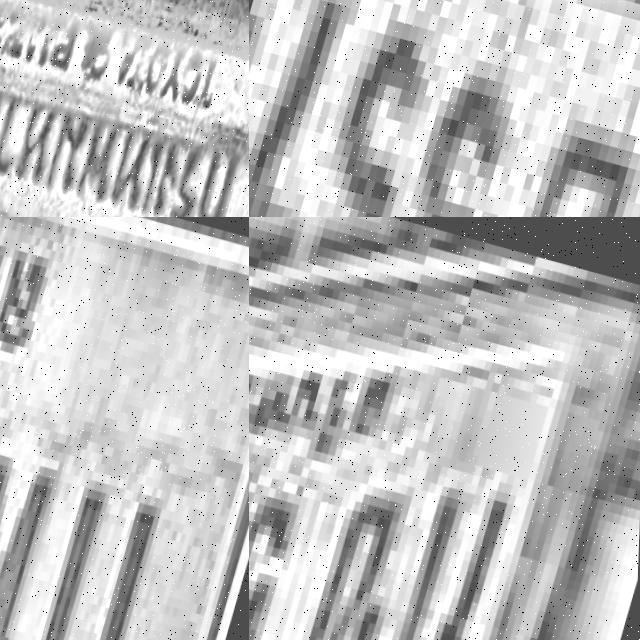license-plate: (249, 217, 640, 640), (0, 217, 249, 640), (249, 0, 640, 217), (0, 0, 249, 217)
